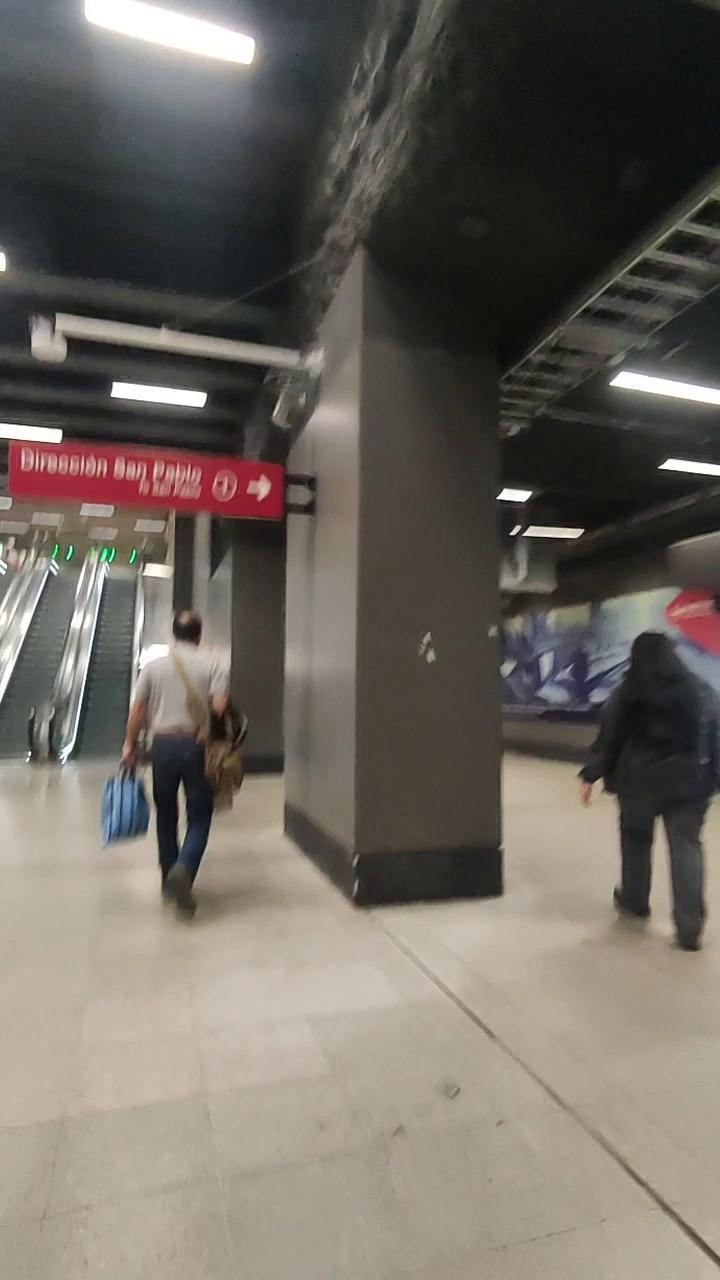right arrow: (242, 472, 278, 504)
